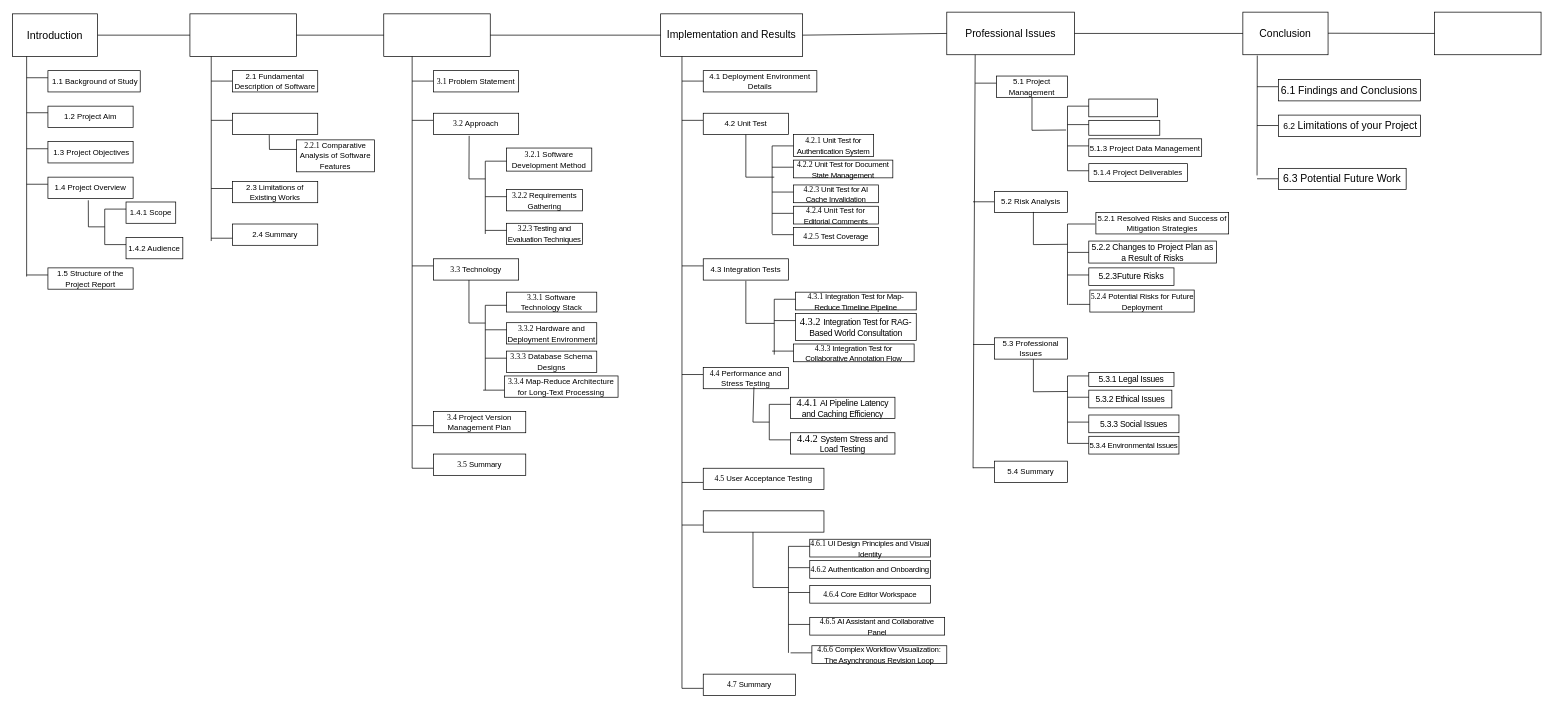
This 1553x711 diagram has some shape labels left out. Here are the shapes that lost their labels. From the top down, the box of each, then its label:
(189, 13, 296, 56): Background Review
(383, 13, 490, 56): Methodology
(1434, 11, 1541, 55): Reference
(232, 113, 318, 135): 2.2 Background Review
(1088, 98, 1158, 117): 5.1.1 Activities
(1088, 120, 1160, 135): 5.1.2 Schedule
(703, 510, 824, 532): 4.6 Software Graphical Interface
